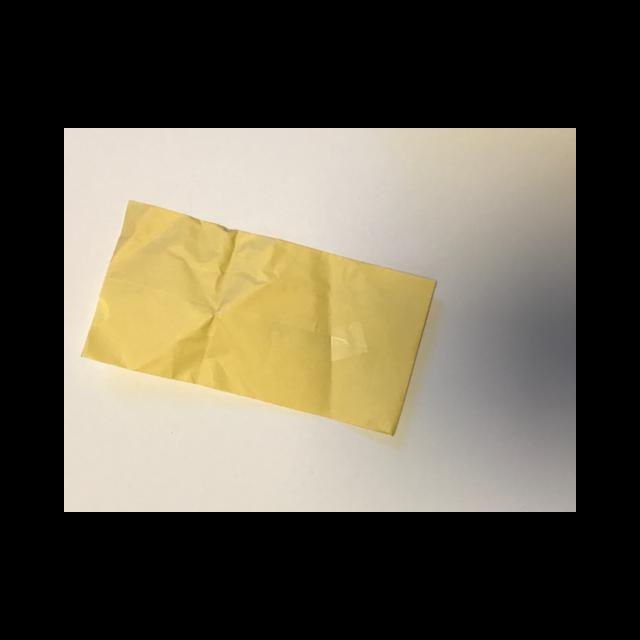paper: (80, 199, 437, 433)
